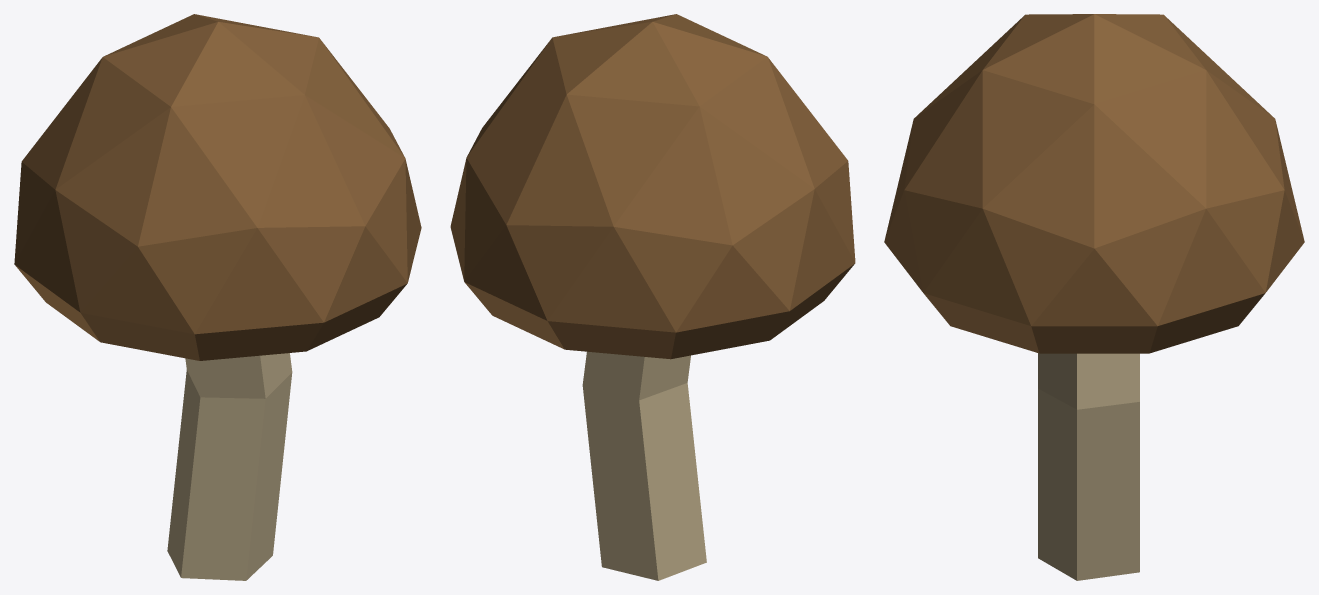
Rendered from Mushroom_1_2.fbx.
3 views of the same model, side by side, from view 1: azimuth 30°, elevation 25°; view 2: azimuth 150°, elevation 25°; view 3: azimuth 270°, elevation 25° (orthographic).
Visible parts, largest first — view 1: Mushroom_1_2; view 2: Mushroom_1_2; view 3: Mushroom_1_2.
Boxes of the visible parts, <box> form: Mushroom_1_2: <box>14,14,421,580</box>; Mushroom_1_2: <box>450,14,855,580</box>; Mushroom_1_2: <box>884,14,1304,580</box>.
Bounding box in the file's own units: 7.56 × 11.35 × 7.95.
